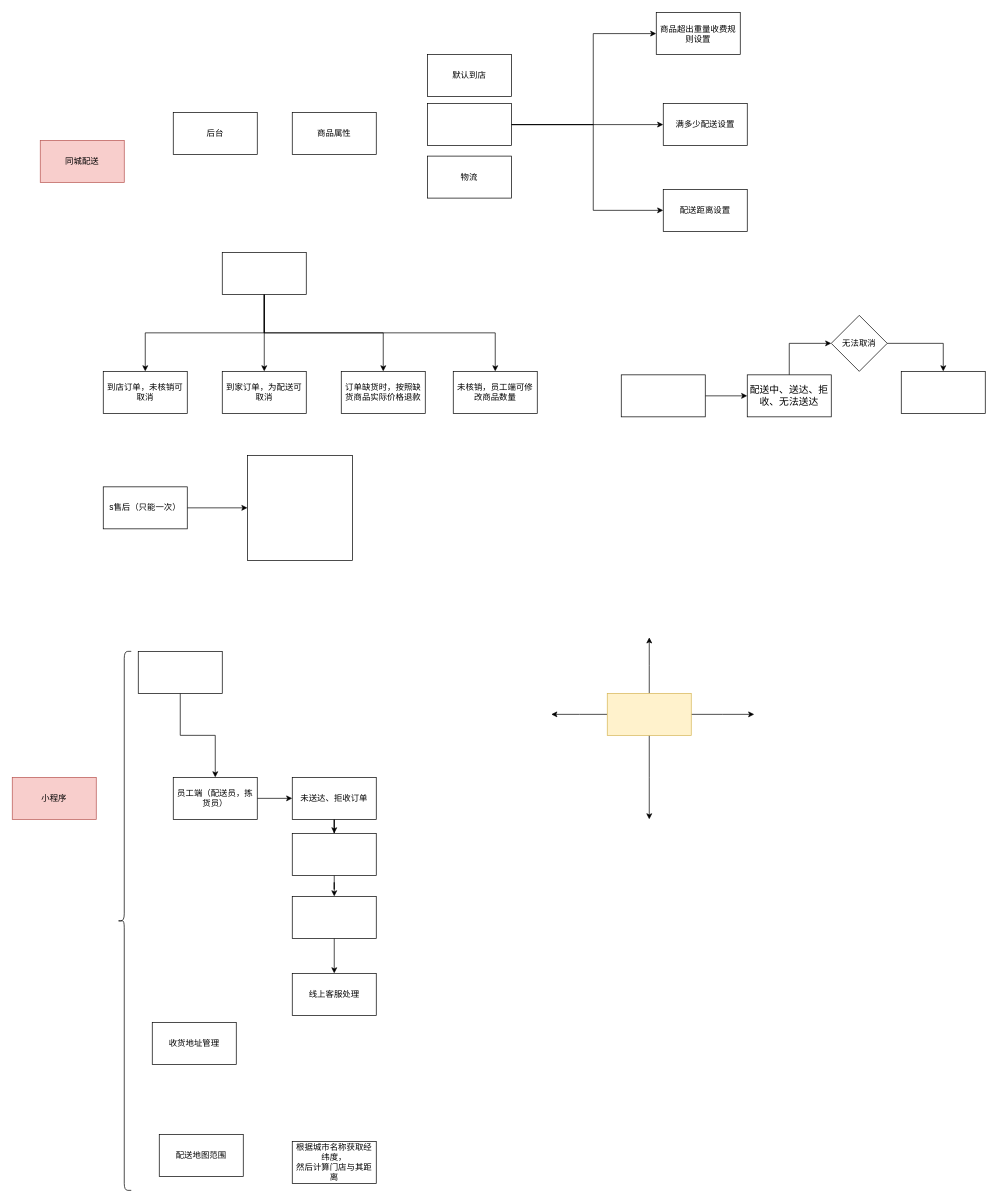
This 998x1203 diagram has some shape labels left out. Each missing label, with the centre of its shape:
到家订单: point (663, 395)
协助人员进行协助处理: point (334, 854)
客服处理后: point (943, 392)
异常订单: point (334, 917)
待处理订单: point (180, 672)
解决方案： 联系发券， 直接退款， 按商品原价退款: point (299, 507)
订单操作人日志记录: point (649, 714)
订单状态: point (264, 273)
配送: point (469, 124)
